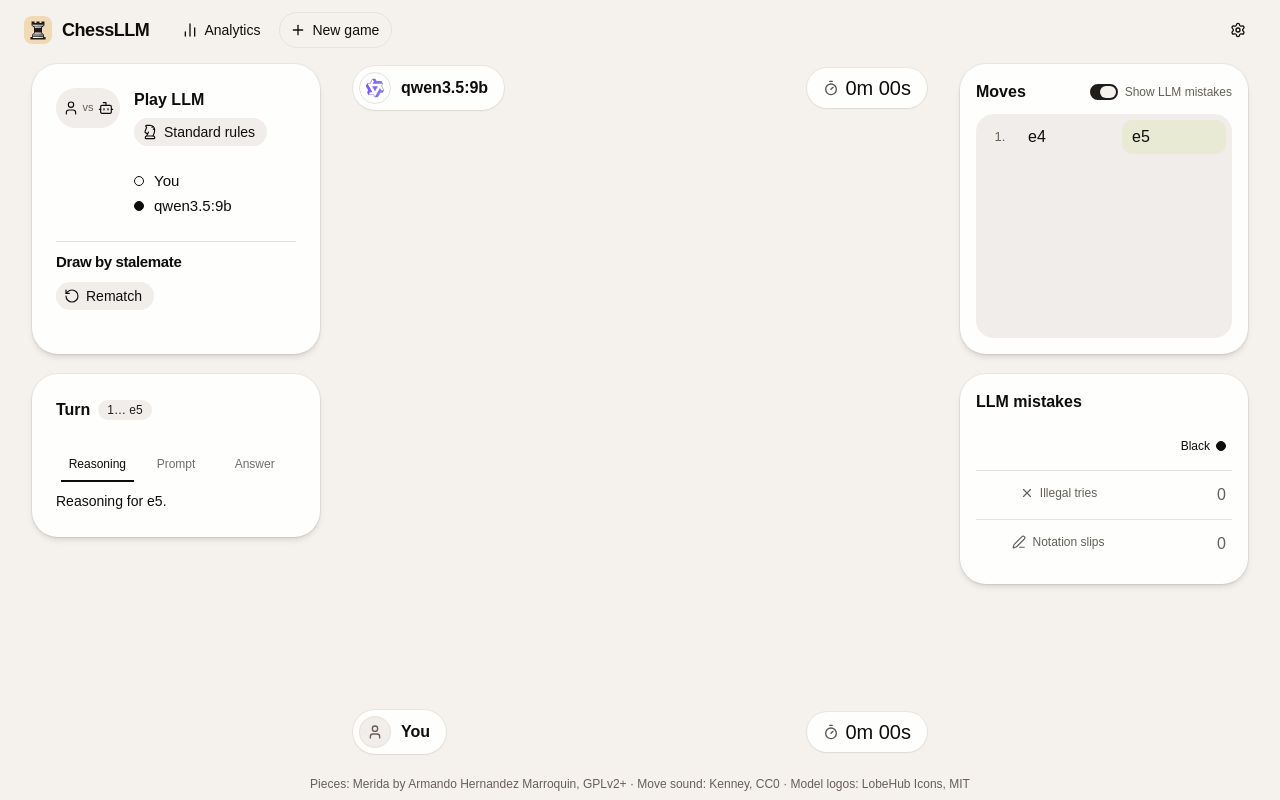
Rematch › in Play LLM the human takes the other colour: the board turns and the LLM opens
Expected: the text with test id "result" reads "Draw by stalemate", left=56, top=253, right=181, bottom=270
Click the button "Rematch" at (105, 296), box left=56, top=282, right=154, bottom=310
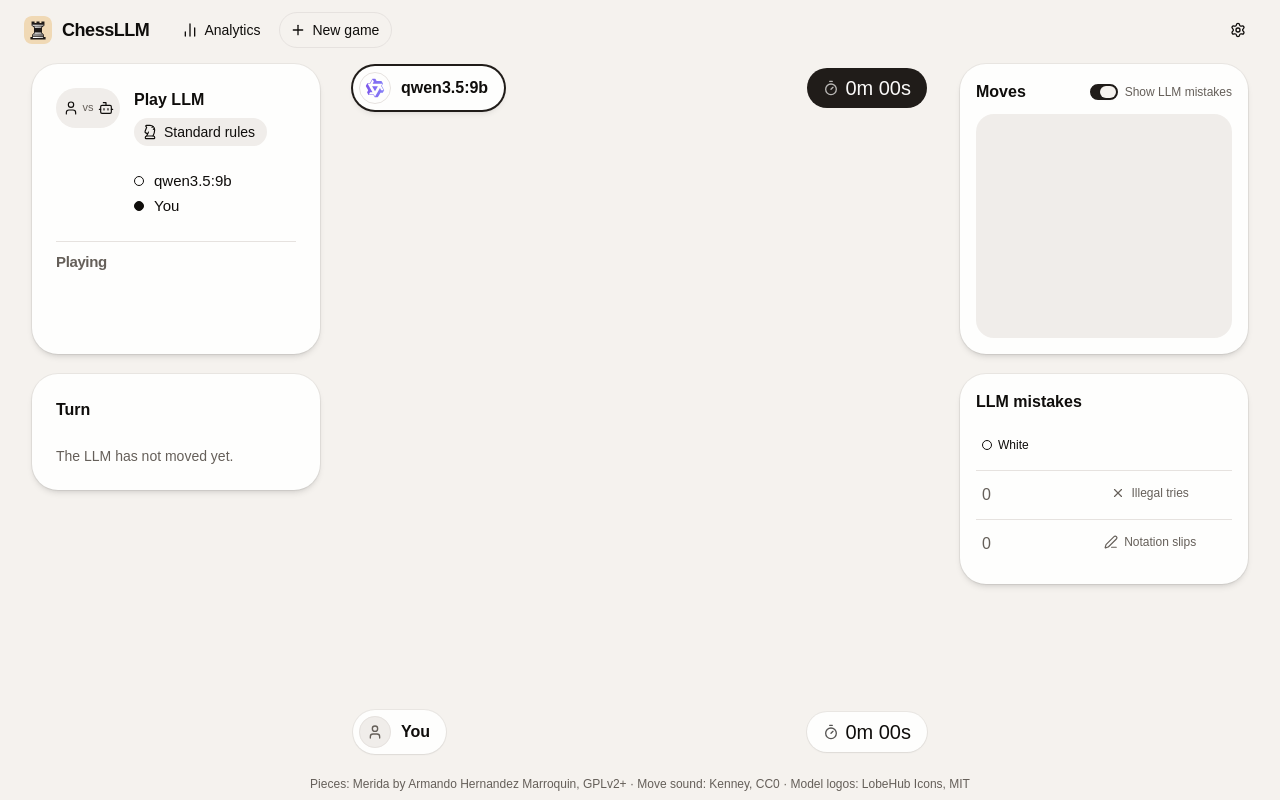
Expected: the 1st element showing "0m 00s" is shown, left=807, top=68, right=927, bottom=108
Now the text with test id "result" is gone
